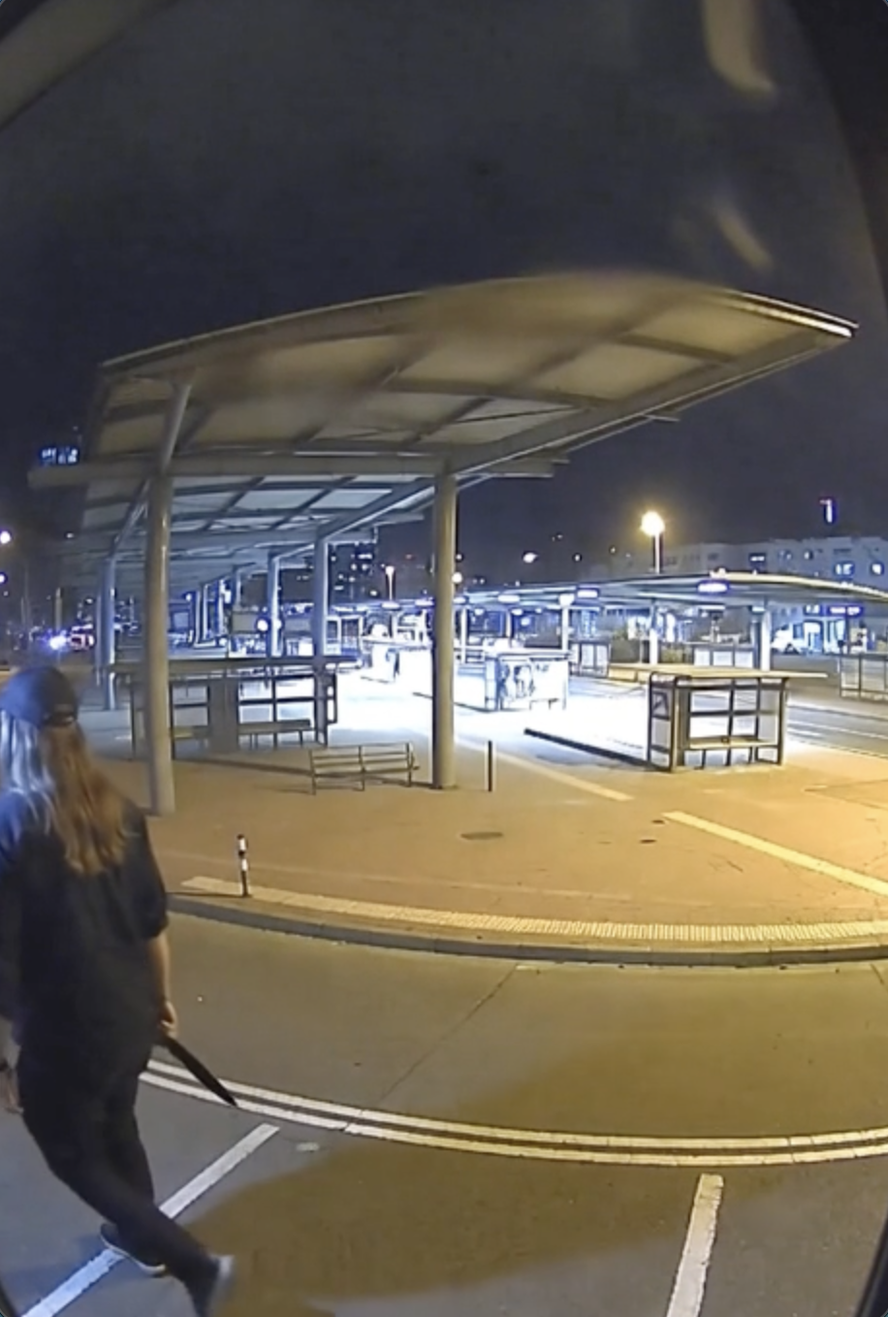Heavy Gun: (1, 652, 285, 1317)
Knife: (132, 996, 244, 1119)
